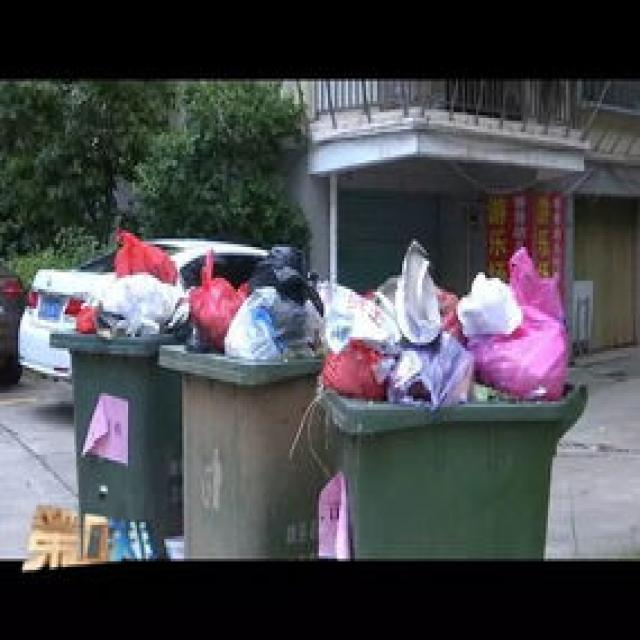overflow: (314, 236, 584, 556), (157, 241, 317, 553), (45, 222, 177, 547)
